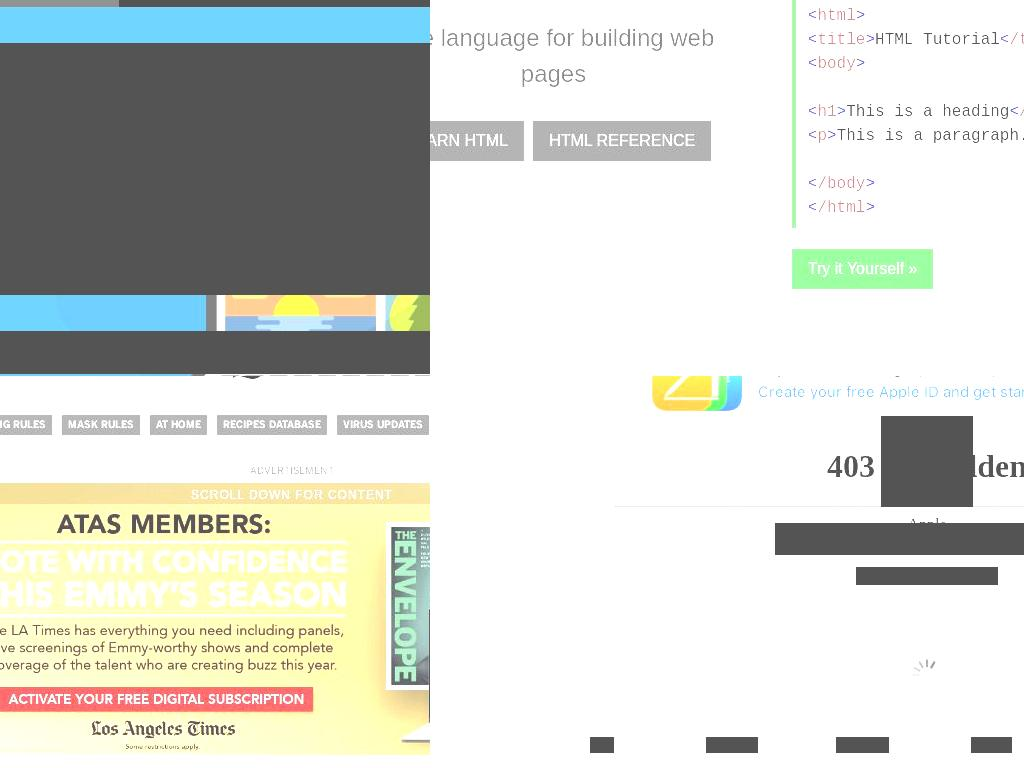button: (533, 120, 712, 161), (758, 380, 1024, 404), (791, 248, 934, 289), (430, 120, 525, 161), (217, 415, 327, 435), (337, 415, 429, 435), (62, 415, 140, 435), (150, 415, 207, 435), (0, 415, 52, 435)
heading: (0, 43, 430, 295)
iframe: (607, 439, 1024, 768), (0, 482, 430, 756)
image: (881, 416, 973, 507), (775, 523, 1024, 555), (856, 567, 998, 585), (652, 376, 712, 411), (667, 376, 727, 411), (682, 376, 742, 411), (905, 653, 938, 686), (836, 737, 889, 753), (706, 737, 758, 753), (971, 737, 1012, 753), (590, 737, 614, 753)
text: (430, 19, 729, 92), (0, 331, 430, 374), (758, 382, 1024, 401), (0, 466, 430, 477), (836, 126, 1024, 145), (846, 102, 1010, 121), (875, 30, 1001, 49), (817, 30, 866, 49), (817, 174, 866, 193), (817, 198, 866, 217), (817, 6, 857, 25), (817, 54, 857, 73), (817, 102, 838, 121), (1009, 30, 1024, 49), (865, 30, 876, 49), (1009, 102, 1020, 121), (817, 126, 828, 145), (827, 126, 838, 145), (865, 174, 876, 193), (865, 198, 876, 217), (807, 6, 817, 25), (855, 6, 865, 25), (807, 30, 817, 49), (999, 30, 1009, 49), (807, 54, 817, 73), (855, 54, 865, 73), (807, 102, 817, 121), (836, 102, 846, 121), (807, 126, 817, 145), (807, 174, 817, 193), (807, 198, 817, 217)
